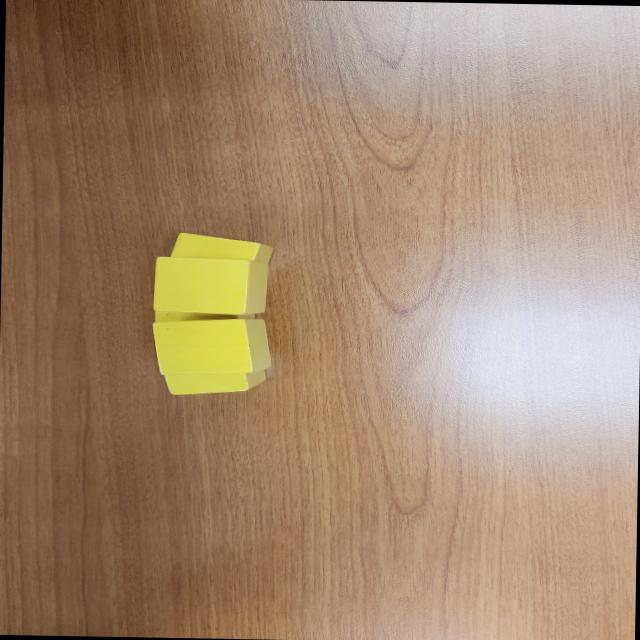yellow: (152, 316, 274, 376), (151, 255, 269, 315), (168, 232, 276, 264), (160, 366, 268, 397), (150, 307, 258, 328)
